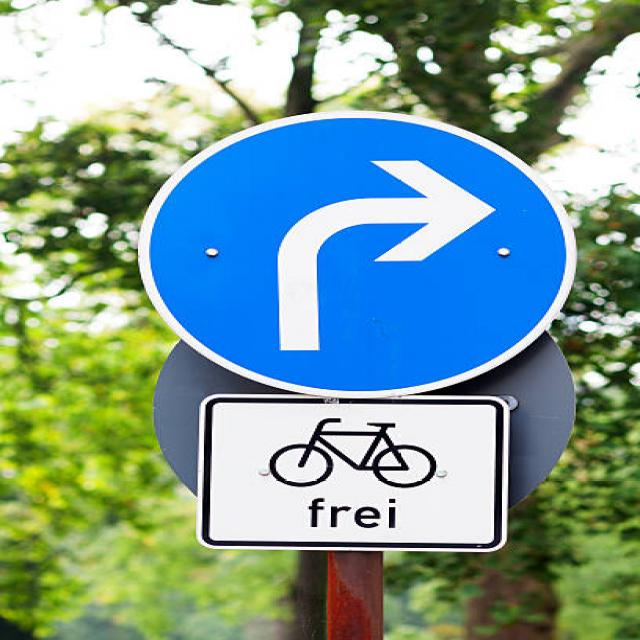compulsory_keep_right: (133, 100, 585, 400)
